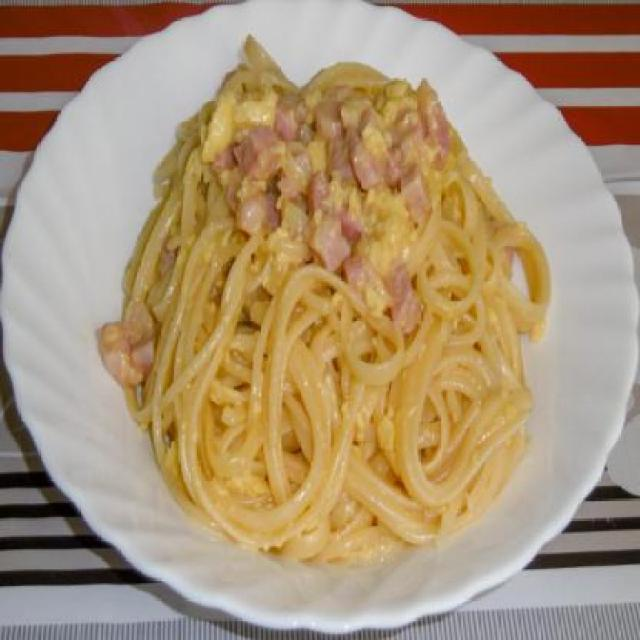Pasta with carbonara sauce: (100, 18, 566, 567)
